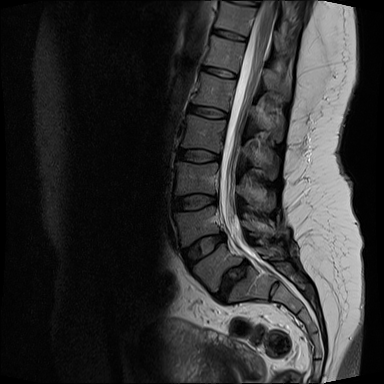Lumbar Disc Bulge (LDB): (174, 226, 232, 276), (210, 256, 256, 307)
Normal IVD: (168, 187, 223, 217), (182, 100, 233, 124), (170, 146, 223, 166), (194, 62, 241, 83), (207, 25, 251, 46)
Spinal Stenosis (SS): (215, 223, 230, 250), (239, 254, 253, 271)
